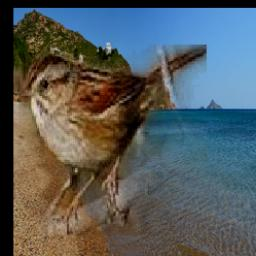Sparrow: (20, 46, 208, 237)
